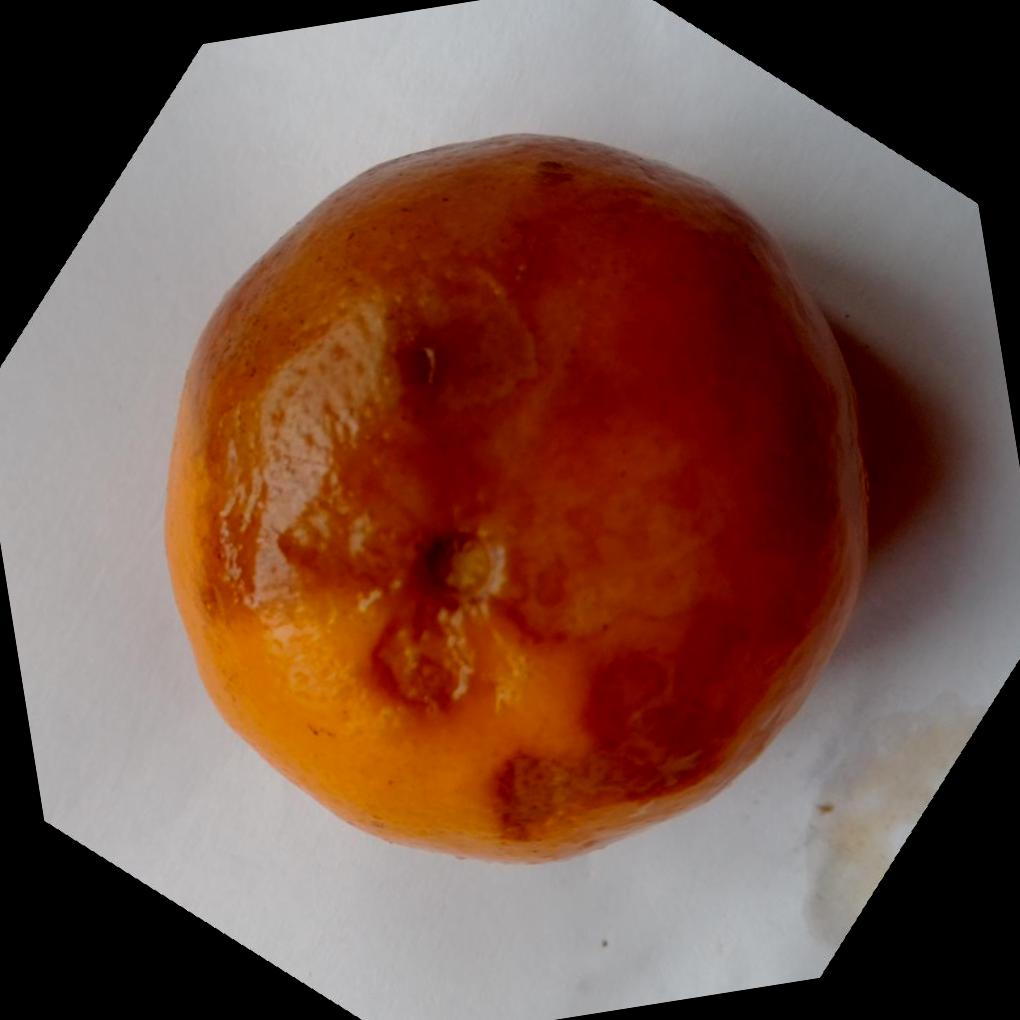FreshOrange: (161, 127, 872, 862)
